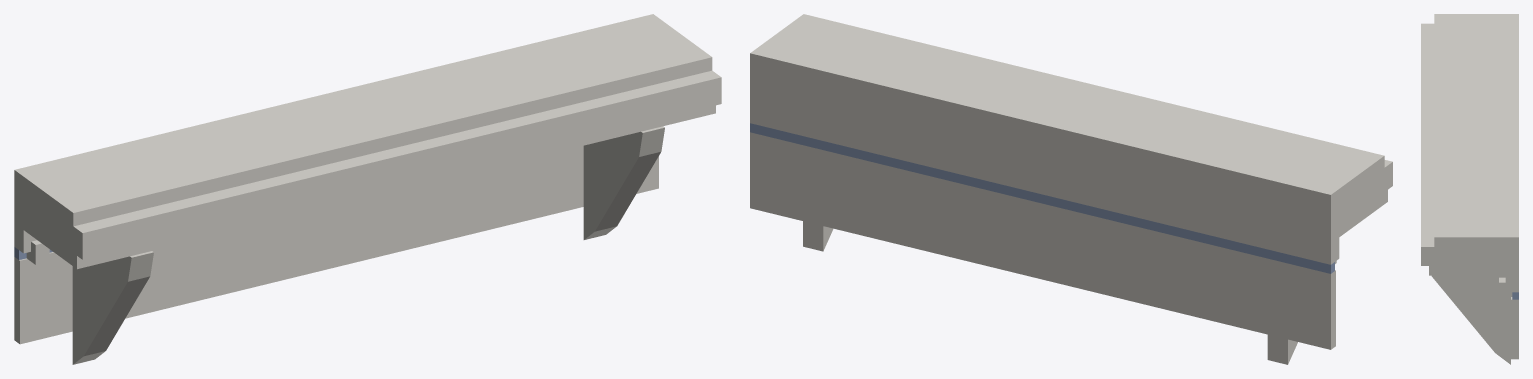
The model's file is cornice_d.glb.
The picture shows the model from 3 angles, left to right: view 1: azimuth 30°, elevation 25°; view 2: azimuth 150°, elevation 25°; view 3: azimuth 270°, elevation 25°; orthographic projection. The views are drawn at different scales.
Parts seen in each view (by area): view 1: cornice_d_trim; view 2: cornice_d_trim, cornice_d_acc_d; view 3: cornice_d_trim.
Boxes of the visible parts, x1,y1,x2,y2 form: cornice_d_trim: (14,14,721,364); cornice_d_trim: (750,14,1392,364); cornice_d_acc_d: (750,123,1334,273); cornice_d_trim: (1421,14,1518,364).
Size of the model in its own units: 2 by 0.61 by 0.37.
